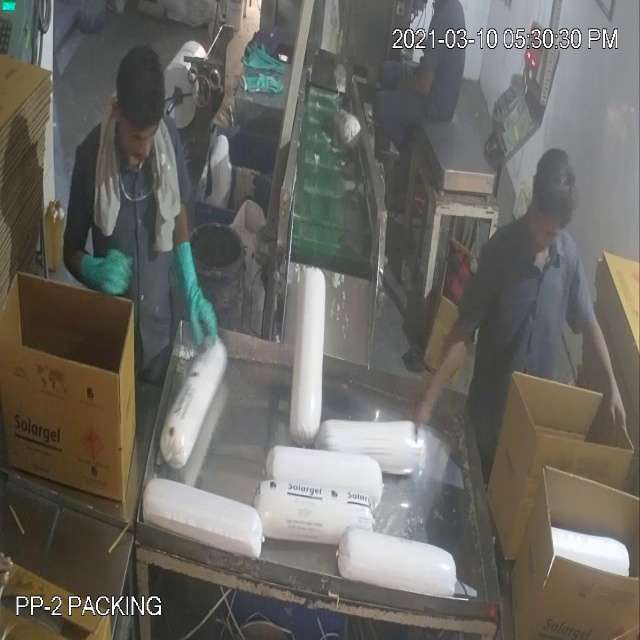Guantes: (168, 231, 222, 353), (77, 231, 136, 305)
Sin_guantes: (399, 300, 488, 451), (577, 293, 633, 460), (380, 53, 442, 107)
